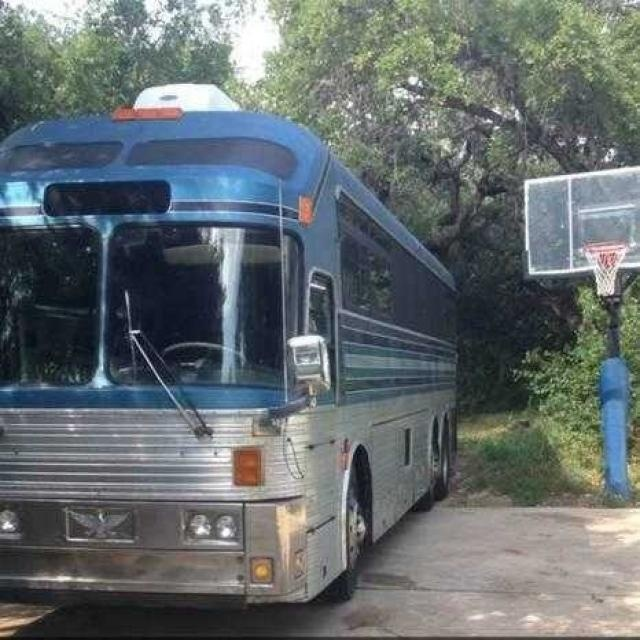Bus: (0, 72, 477, 613)
